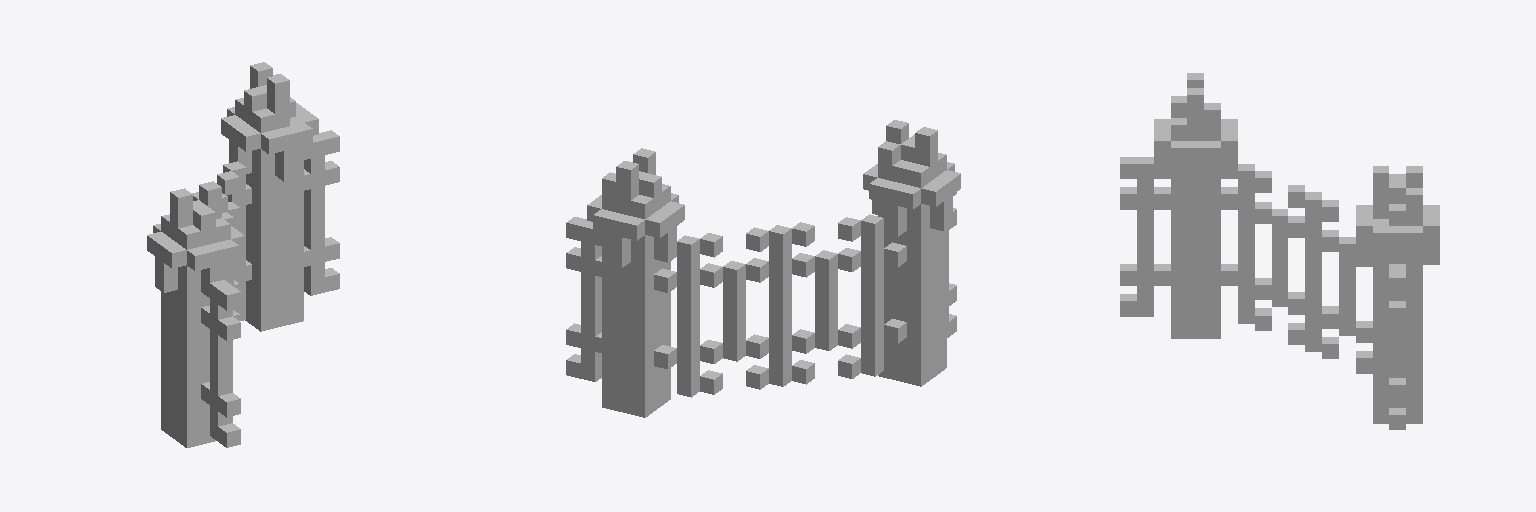
Rendered from villageFenceCorner-0.obj.
3 renders of one model, left to right at view 1: azimuth 30°, elevation 25°; view 2: azimuth 150°, elevation 25°; view 3: azimuth 270°, elevation 25°, orthographic.
Visible parts, largest first — view 1: object 1; view 2: object 1; view 3: object 1.
Boxes of the visible parts, x1,y1,x2,y2 form: object 1: [147, 62, 339, 447]; object 1: [566, 120, 960, 417]; object 1: [1120, 73, 1439, 429].
Size of the model in its own units: 1.9 by 1.6 by 1.9.